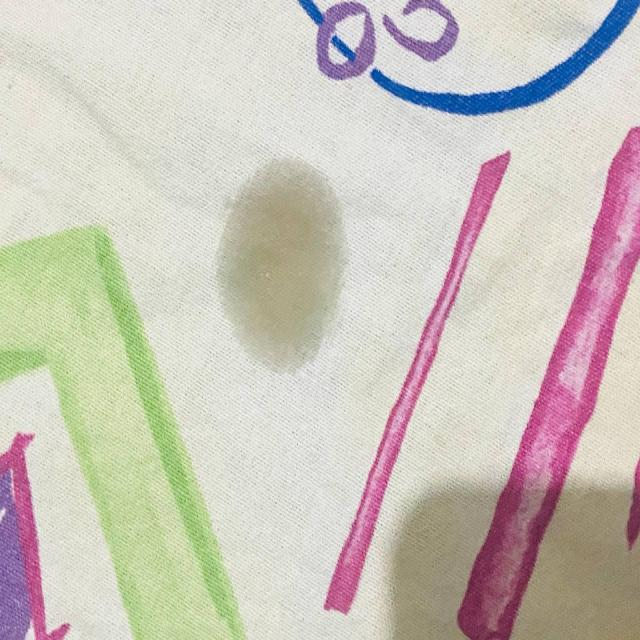stain: (210, 153, 356, 376)
